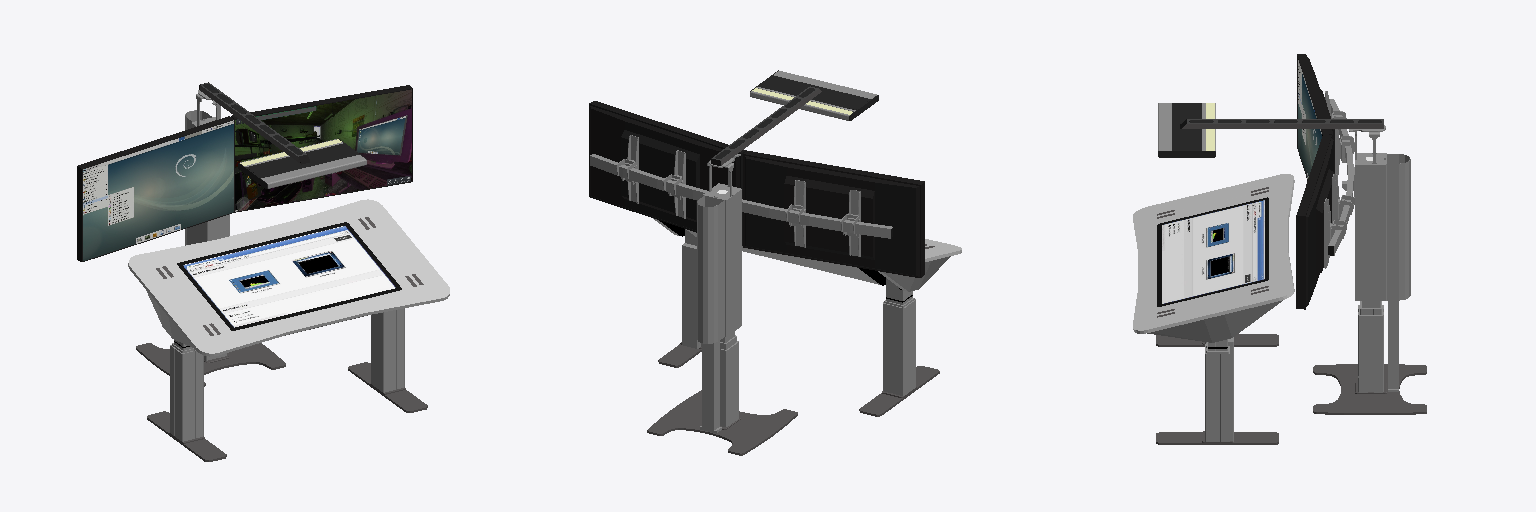
The picture shows the model from 3 angles: view 1: azimuth 30°, elevation 25°; view 2: azimuth 150°, elevation 25°; view 3: azimuth 270°, elevation 25°; orthographic projection.
Visible parts, largest first — view 1: Mesh37 Component_8_1 Component_7_1 Component_6_1 skp3AE1_1 Model, Mesh38 Component_30_1 Group1 skp8C67_1 Model, Mesh34 Component_14_1 Component_13_1 Component_8_1 Component_7_1, Mesh39 Component_41_1 Group1 skp8C67_1 Model, Mesh2 Component_2_1 Component1 skp3AE1_1 Model, Mesh9 Component_2_6 Component1 skp3AE1_1 Model, Mesh74 Component_33_1 skp8C67_1 Model, Mesh35 Component_13_1 Component_8_1 Component_7_1 Component_6_1 , Mesh41 Component_45_1 Group1 skp8C67_1 Model, Mesh65 Component_35_1 Group2 skp8C67_1 Model, Mesh64 Component_20_1 Component_37_1 Group2 skp8C67_1 Model, Mesh61 Component_26_1 Component_37_1 Group2 skp8C67_1 Model (+4 smaller); view 2: Mesh41 Component_45_1 Group1 skp8C67_1 Model, Mesh48 Component_45_2 Group1 skp8C67_1 Model, Mesh72 Component_24_1 Component_34_1 skp8C67_1 Model, Mesh74 Component_33_1 skp8C67_1 Model, Mesh40 Component_31_1 Group1 skp8C67_1 Model, Mesh2 Component_2_1 Component1 skp3AE1_1 Model, Mesh71 Component_23_1 Component_34_1 skp8C67_1 Model, Mesh69 Component_40_1 skp8C67_1 Model, Mesh1 Component_1_1 Component1 skp3AE1_1 Model, Mesh65 Component_35_1 Group2 skp8C67_1 Model, Mesh66 Component_44_1 skp8C67_1 Model, Mesh64 Component_20_1 Component_37_1 Group2 skp8C67_1 Model (+9 smaller); view 3: Mesh37 Component_8_1 Component_7_1 Component_6_1 skp3AE1_1 Model, Mesh34 Component_14_1 Component_13_1 Component_8_1 Component_7_1, Mesh71 Component_23_1 Component_34_1 skp8C67_1 Model, Mesh48 Component_45_2 Group1 skp8C67_1 Model, Mesh72 Component_24_1 Component_34_1 skp8C67_1 Model, Mesh74 Component_33_1 skp8C67_1 Model, Mesh9 Component_2_6 Component1 skp3AE1_1 Model, Mesh66 Component_44_1 skp8C67_1 Model, Mesh65 Component_35_1 Group2 skp8C67_1 Model, Mesh26 Component_12_1 Component_8_1 Component_7_1 Component_6_1 , Mesh38 Component_30_1 Group1 skp8C67_1 Model, Mesh12 Component_3_2 Component1 skp3AE1_1 Model (+8 smaller).
Boxes of the visible parts, <box> form: Mesh37 Component_8_1 Component_7_1 Component_6_1 skp3AE1_1 Model: <box>128,199,449,356</box>; Mesh38 Component_30_1 Group1 skp8C67_1 Model: <box>83,120,233,260</box>; Mesh34 Component_14_1 Component_13_1 Component_8_1 Component_7_1: <box>183,226,395,327</box>; Mesh39 Component_41_1 Group1 skp8C67_1 Model: <box>235,89,411,211</box>; Mesh2 Component_2_1 Component1 skp3AE1_1 Model: <box>170,345,203,441</box>; Mesh9 Component_2_6 Component1 skp3AE1_1 Model: <box>371,308,404,392</box>; Mesh74 Component_33_1 skp8C67_1 Model: <box>136,343,285,386</box>; Mesh35 Component_13_1 Component_8_1 Component_7_1 Component_6_1 : <box>177,222,401,330</box>; Mesh41 Component_45_1 Group1 skp8C67_1 Model: <box>77,116,234,261</box>; Mesh65 Component_35_1 Group2 skp8C67_1 Model: <box>199,82,309,164</box>; Mesh64 Component_20_1 Component_37_1 Group2 skp8C67_1 Model: <box>246,143,359,177</box>; Mesh61 Component_26_1 Component_37_1 Group2 skp8C67_1 Model: <box>261,155,366,188</box>; Mesh41 Component_45_1 Group1 skp8C67_1 Model: <box>743,151,924,277</box>; Mesh48 Component_45_2 Group1 skp8C67_1 Model: <box>589,101,746,245</box>; Mesh72 Component_24_1 Component_34_1 skp8C67_1 Model: <box>697,195,724,343</box>; Mesh74 Component_33_1 skp8C67_1 Model: <box>647,390,797,455</box>; Mesh40 Component_31_1 Group1 skp8C67_1 Model: <box>590,154,892,238</box>; Mesh2 Component_2_1 Component1 skp3AE1_1 Model: <box>883,299,915,395</box>; Mesh71 Component_23_1 Component_34_1 skp8C67_1 Model: <box>703,183,741,336</box>; Mesh69 Component_40_1 skp8C67_1 Model: <box>700,341,721,433</box>; Mesh1 Component_1_1 Component1 skp3AE1_1 Model: <box>682,243,700,348</box>; Mesh65 Component_35_1 Group2 skp8C67_1 Model: <box>711,86,821,165</box>; Mesh66 Component_44_1 skp8C67_1 Model: <box>720,341,738,426</box>; Mesh64 Component_20_1 Component_37_1 Group2 skp8C67_1 Model: <box>757,75,870,109</box>; Mesh37 Component_8_1 Component_7_1 Component_6_1 skp3AE1_1 Model: <box>1133,174,1294,333</box>; Mesh34 Component_14_1 Component_13_1 Component_8_1 Component_7_1: <box>1162,200,1264,303</box>; Mesh71 Component_23_1 Component_34_1 skp8C67_1 Model: <box>1355,153,1386,300</box>; Mesh48 Component_45_2 Group1 skp8C67_1 Model: <box>1296,135,1334,309</box>; Mesh72 Component_24_1 Component_34_1 skp8C67_1 Model: <box>1387,154,1410,300</box>; Mesh74 Component_33_1 skp8C67_1 Model: <box>1313,364,1426,414</box>; Mesh9 Component_2_6 Component1 skp3AE1_1 Model: <box>1205,344,1229,441</box>; Mesh66 Component_44_1 skp8C67_1 Model: <box>1358,305,1383,392</box>; Mesh65 Component_35_1 Group2 skp8C67_1 Model: <box>1180,119,1383,128</box>; Mesh26 Component_12_1 Component_8_1 Component_7_1 Component_6_1 : <box>1147,300,1282,342</box>; Mesh38 Component_30_1 Group1 skp8C67_1 Model: <box>1298,60,1322,178</box>; Mesh12 Component_3_2 Component1 skp3AE1_1 Model: <box>1156,432,1278,444</box>.
Size of the model in its own units: 2.49 by 1.93 by 1.91.
Materials: 17 (5 with a texture image).